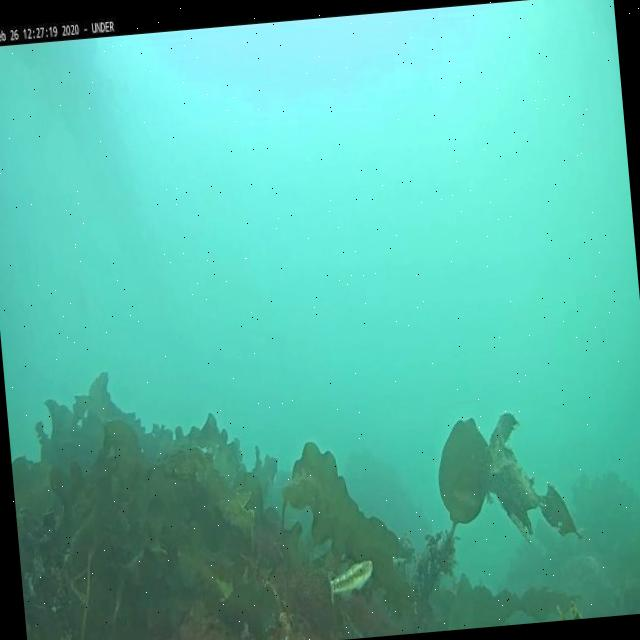fish: (327, 559, 374, 598)
